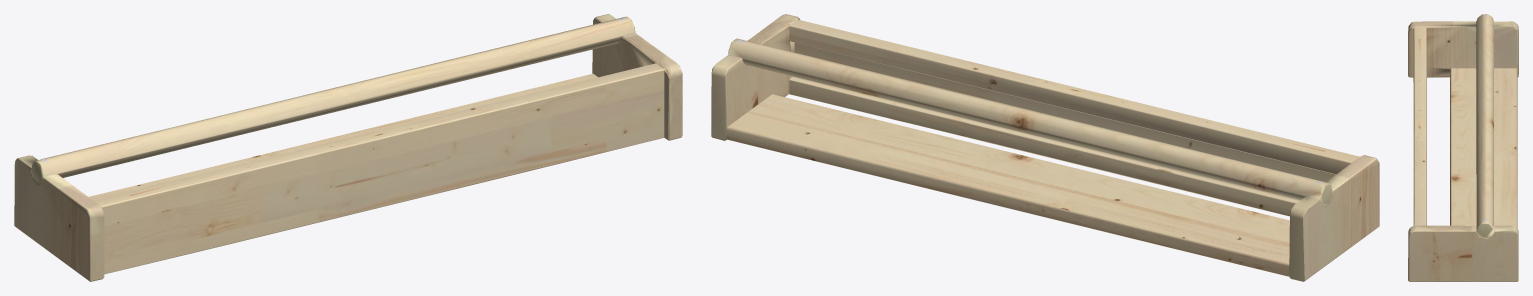
The picture shows the model from 3 angles, left to right: view 1: azimuth 30°, elevation 25°; view 2: azimuth 150°, elevation 25°; view 3: azimuth 270°, elevation 25°; orthographic projection. The views are drawn at different scales.
Visible parts, largest first — view 1: ProcessedMeshNode; view 2: ProcessedMeshNode; view 3: ProcessedMeshNode.
Part boxes in pixels (box(x1,y1,x2,y2)): ProcessedMeshNode: box(14, 14, 682, 281); ProcessedMeshNode: box(711, 14, 1379, 281); ProcessedMeshNode: box(1408, 14, 1518, 281).
Size of the model in its own units: 0.7044 by 0.0932 by 0.1572.
Materials: 1 (1 with a texture image).
